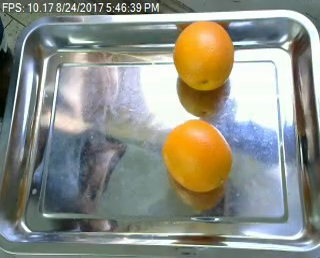Orange: (163, 119, 233, 192), (173, 21, 235, 91)
